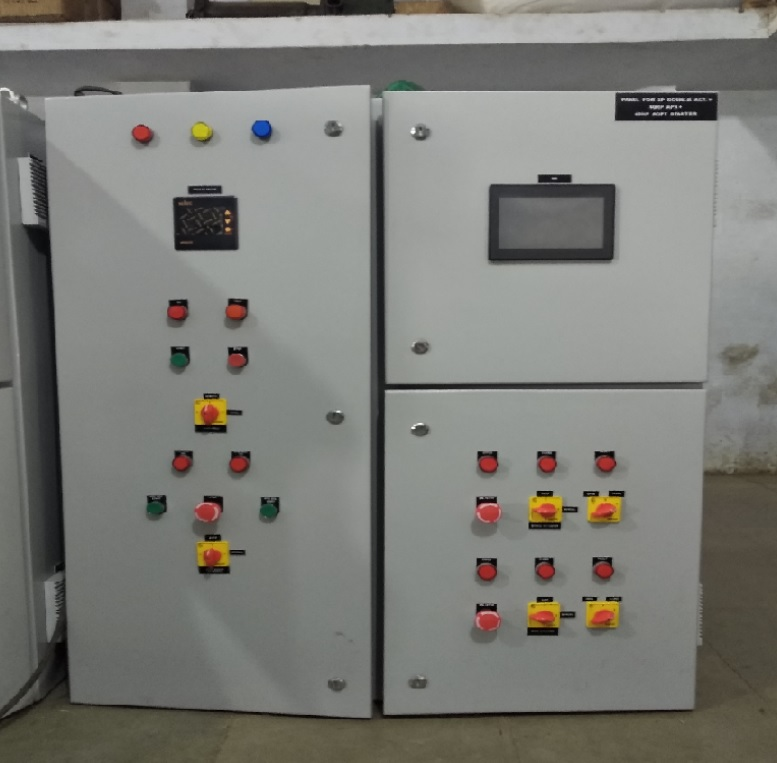Blue_Led_Off: (243, 113, 283, 149)
Green_Led_Off: (254, 490, 301, 537), (138, 488, 179, 523), (163, 341, 200, 378)
Orange_Led_Off: (216, 291, 261, 333)
Red_Led_Off: (586, 440, 628, 481), (220, 444, 263, 484), (526, 440, 566, 483), (470, 442, 509, 483), (158, 290, 196, 331), (465, 549, 506, 587), (164, 444, 205, 481), (528, 550, 565, 589), (584, 549, 625, 584), (222, 341, 259, 378), (120, 119, 161, 149)
Yellow_Led_Off: (183, 117, 223, 150)
